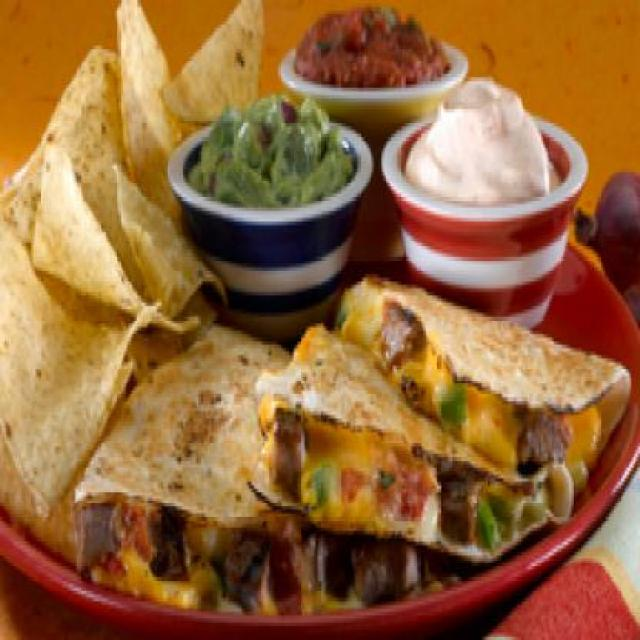chicken quesadilla: (70, 271, 632, 615)
guacamole: (192, 81, 352, 225)
